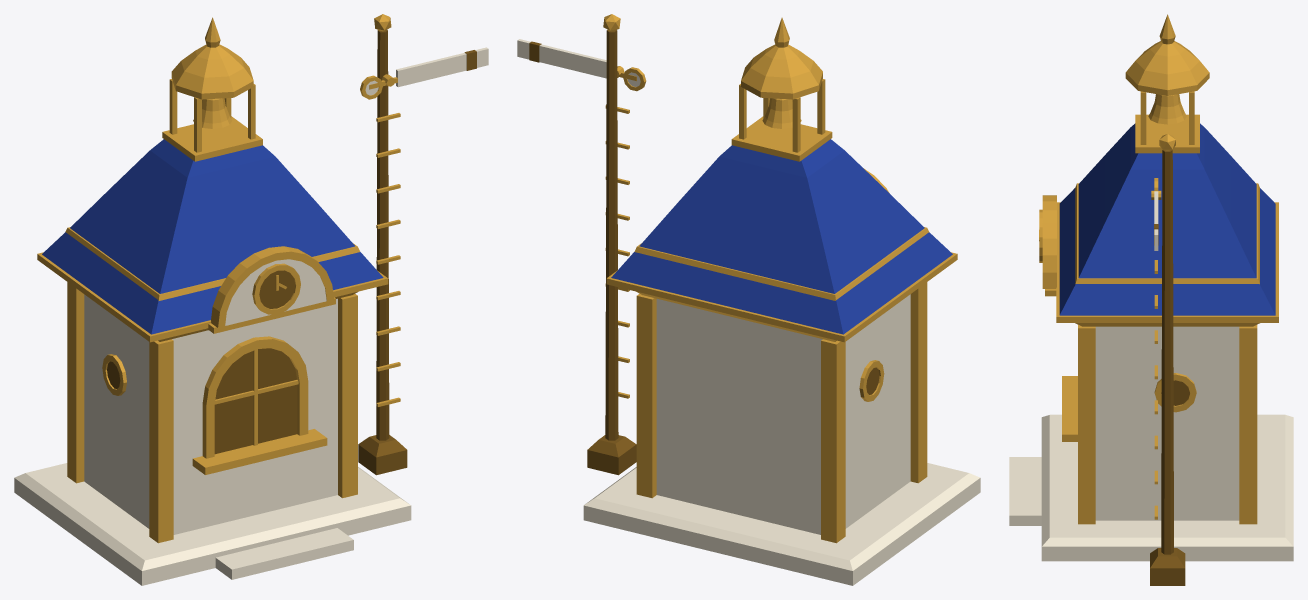
The model's file is station_kiosk.glb.
The picture shows the model from 3 angles, left to right: view 1: azimuth 30°, elevation 25°; view 2: azimuth 150°, elevation 25°; view 3: azimuth 270°, elevation 25°; orthographic projection.
Parts seen in each view (by area): view 1: station_kiosk_house, station_kiosk_signal_arm, station_kiosk_bell; view 2: station_kiosk_house, station_kiosk_signal_arm, station_kiosk_bell; view 3: station_kiosk_house, station_kiosk_bell, station_kiosk_signal_arm.
Part boxes in pixels (<box>): station_kiosk_house: <box>14,14,411,585</box>; station_kiosk_signal_arm: <box>360,47,488,99</box>; station_kiosk_bell: <box>193,98,232,128</box>; station_kiosk_house: <box>583,14,980,585</box>; station_kiosk_signal_arm: <box>517,39,646,91</box>; station_kiosk_bell: <box>762,98,801,128</box>; station_kiosk_house: <box>1009,14,1293,585</box>; station_kiosk_bell: <box>1148,94,1186,124</box>; station_kiosk_signal_arm: <box>1151,178,1161,250</box>.
Size of the model in its own units: 2.85 by 3.3 by 1.76.
